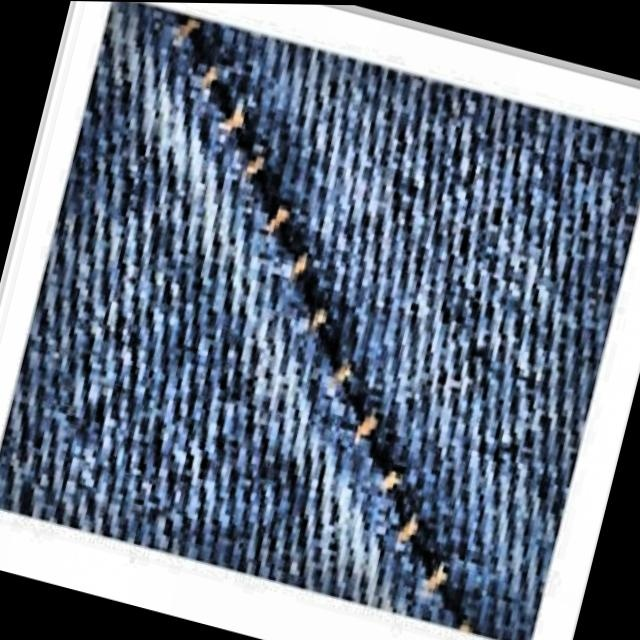seam: (28, 22, 623, 617)
